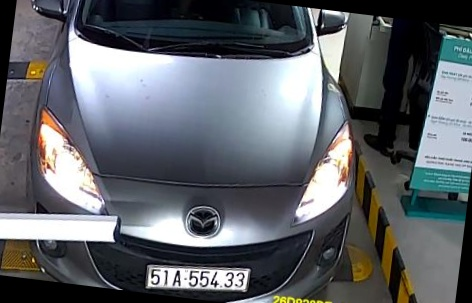plate: (142, 258, 255, 294)
